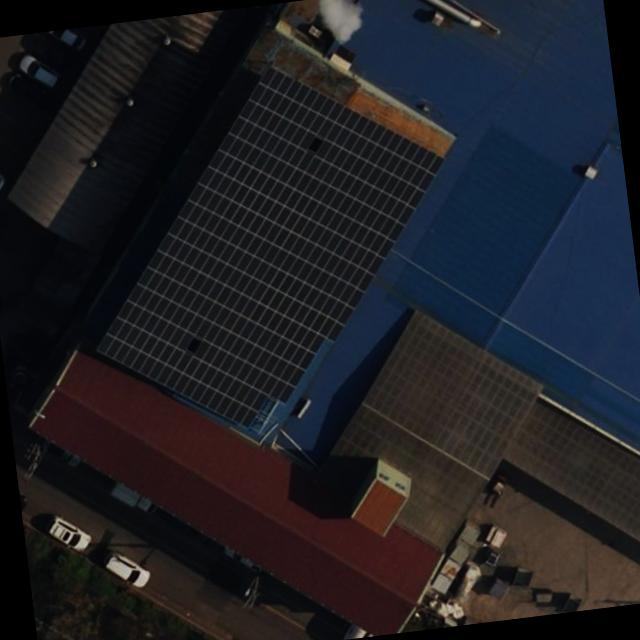solar: (60, 45, 477, 448)
